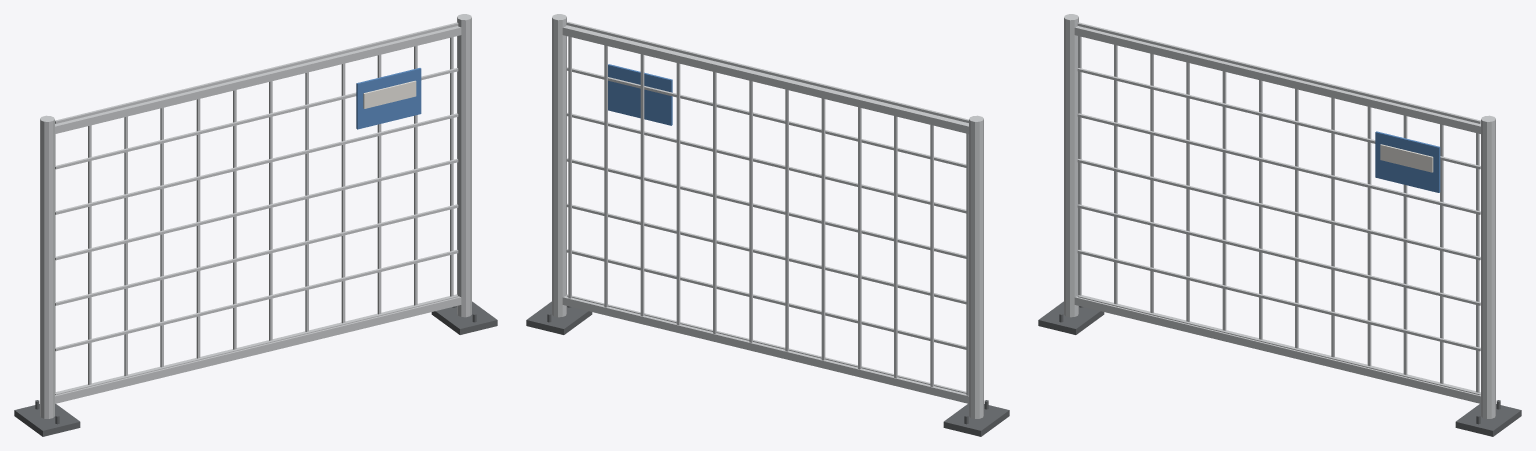
Rendered from tool-hire-depot-and-plant-yard-tool-hire-depot-and-pla-91aa23ea__35294.glb.
3 renders of one model, left to right at view 1: azimuth 30°, elevation 25°; view 2: azimuth 150°, elevation 25°; view 3: azimuth 330°, elevation 25°, orthographic.
Visible parts, largest first — view 1: tool-hire-depot-and-plant-yard-depot-fence-panel; view 2: tool-hire-depot-and-plant-yard-depot-fence-panel; view 3: tool-hire-depot-and-plant-yard-depot-fence-panel.
Part boxes in pixels (left/top/right/bottom): tool-hire-depot-and-plant-yard-depot-fence-panel: left=14, top=14, right=497, bottom=436; tool-hire-depot-and-plant-yard-depot-fence-panel: left=526, top=14, right=1009, bottom=436; tool-hire-depot-and-plant-yard-depot-fence-panel: left=1038, top=14, right=1521, bottom=436.
Bounding box in the file's own units: 3.14 × 2 × 0.34.
